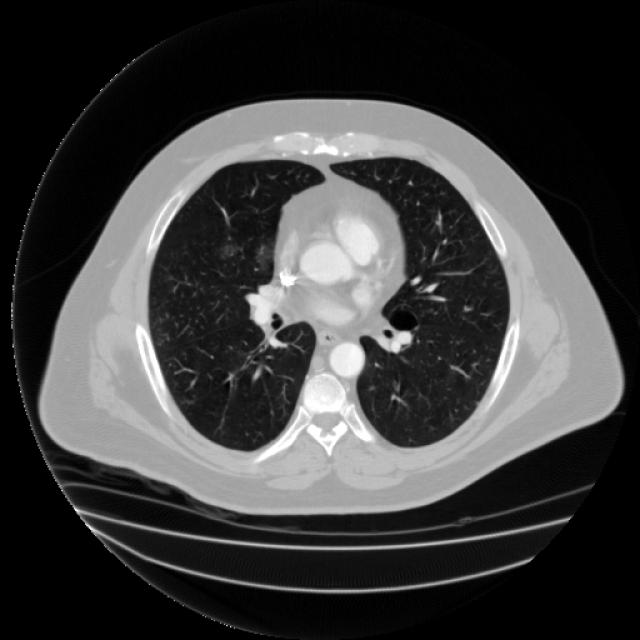nodule: (239, 229, 289, 279)
